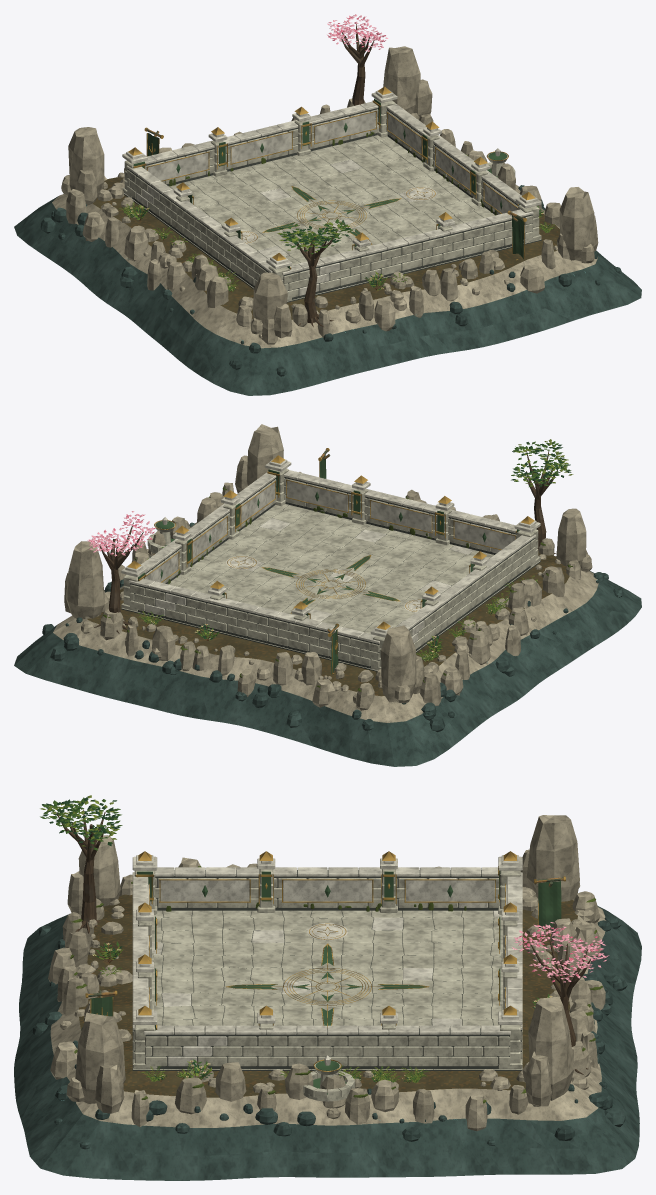
File: realm_09.fbx
3 renders of one model, top to bottom at view 1: azimuth 30°, elevation 25°; view 2: azimuth 150°, elevation 25°; view 3: azimuth 270°, elevation 25°, orthographic. The views are drawn at different scales.
Visible parts, largest first — view 1: realm_09__shore, realm_09__closed_walls, realm_09__combat_floor, realm_09__biome_dressing; view 2: realm_09__shore, realm_09__closed_walls, realm_09__combat_floor, realm_09__biome_dressing; view 3: realm_09__shore, realm_09__closed_walls, realm_09__combat_floor, realm_09__biome_dressing.
Part boxes in pixels (<box>): realm_09__shore: <box>14,98,641,395</box>; realm_09__closed_walls: <box>122,86,541,300</box>; realm_09__combat_floor: <box>124,135,541,302</box>; realm_09__biome_dressing: <box>61,14,598,344</box>; realm_09__shore: <box>14,472,641,766</box>; realm_09__closed_walls: <box>121,455,540,670</box>; realm_09__combat_floor: <box>121,504,540,671</box>; realm_09__biome_dressing: <box>64,424,599,704</box>; realm_09__shore: <box>14,857,641,1180</box>; realm_09__closed_walls: <box>132,851,522,1068</box>; realm_09__combat_floor: <box>132,910,522,1070</box>; realm_09__biome_dressing: <box>40,795,609,1123</box>.
Size of the model in its own units: 112750 by 112710 by 37149.
